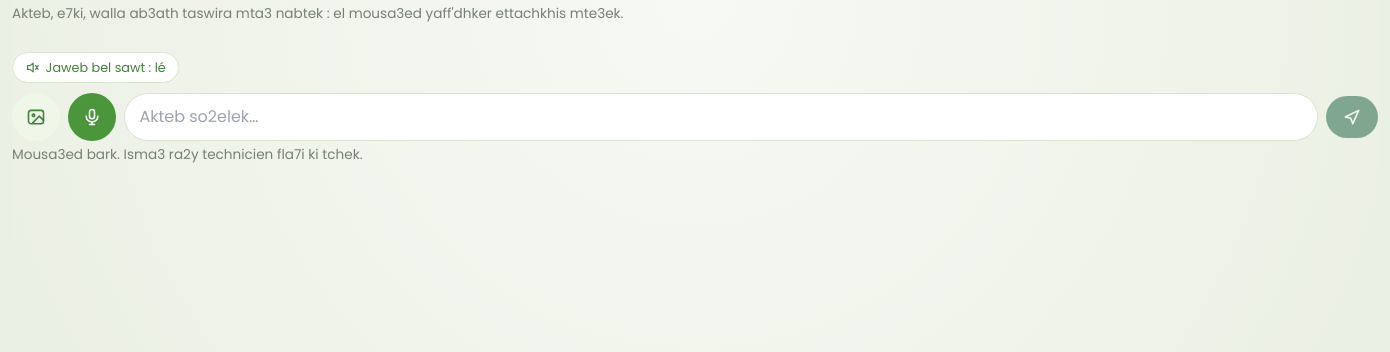
Test: le bouton photo propose appareil photo et galerie
Click the button titled "Zid taswira": (36, 117) [12, 93, 60, 141]
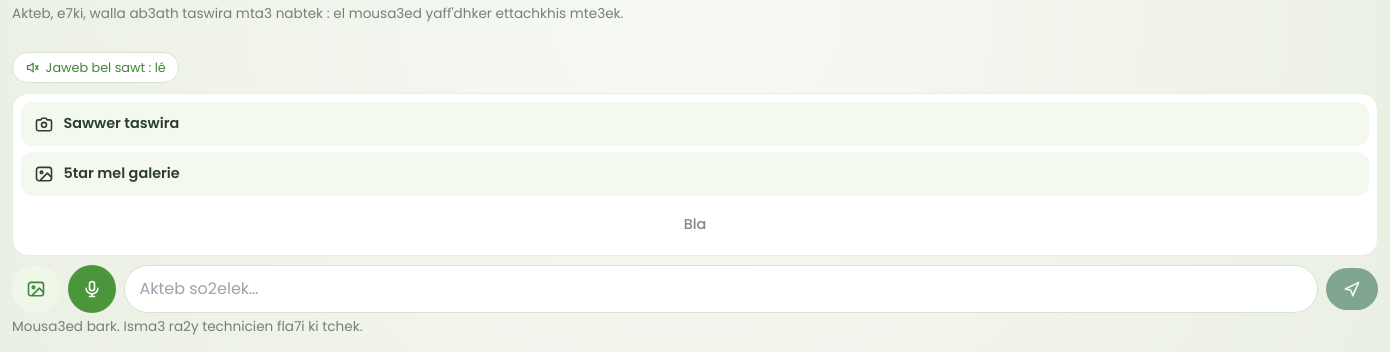
Expected: the button "Sawwer taswira" is shown, [21, 102, 1369, 146]
Expected: the button "5tar mel galerie" is shown, [21, 152, 1369, 196]
Click the button "Bla": (695, 224) [21, 202, 1369, 246]
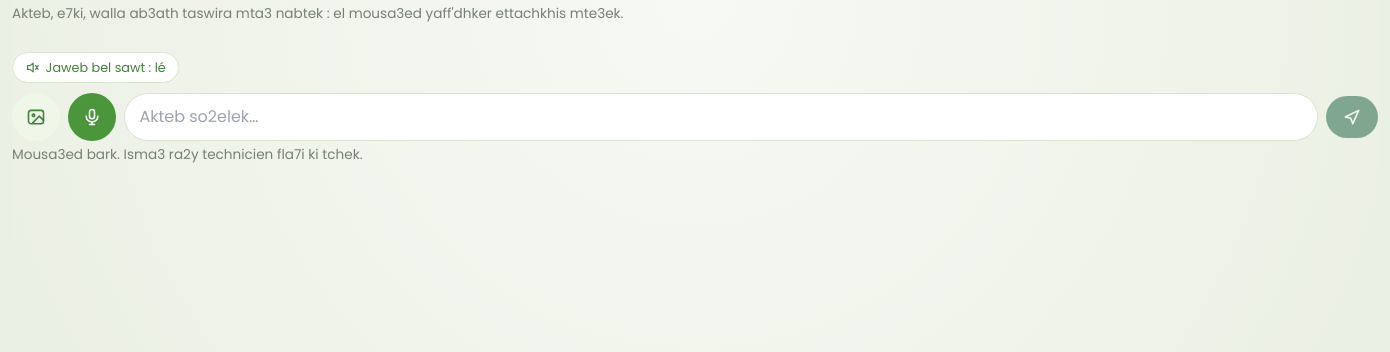
Expected: the element with class "asst-picker" is gone
